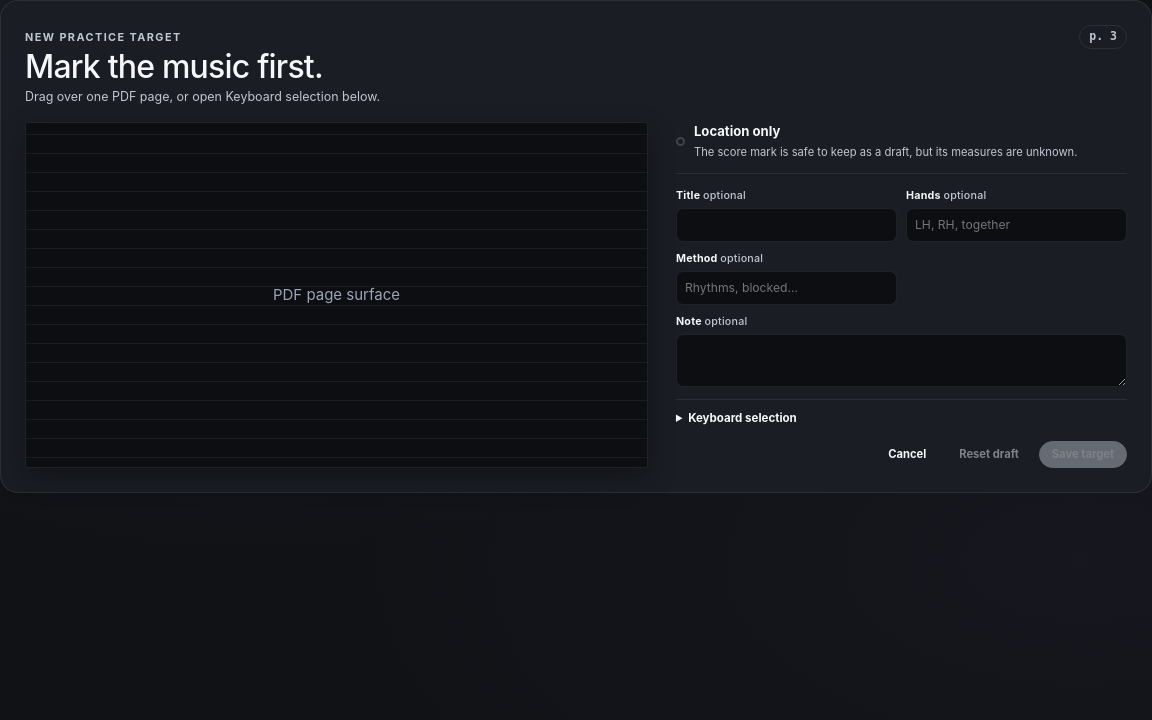
it: TargetDraftEditor › reports rejected drag geometry in an assertive live error
Press the mouse on the element with test id "atlas-target-overlay-3" at (336, 295), box [26,123,647,467]
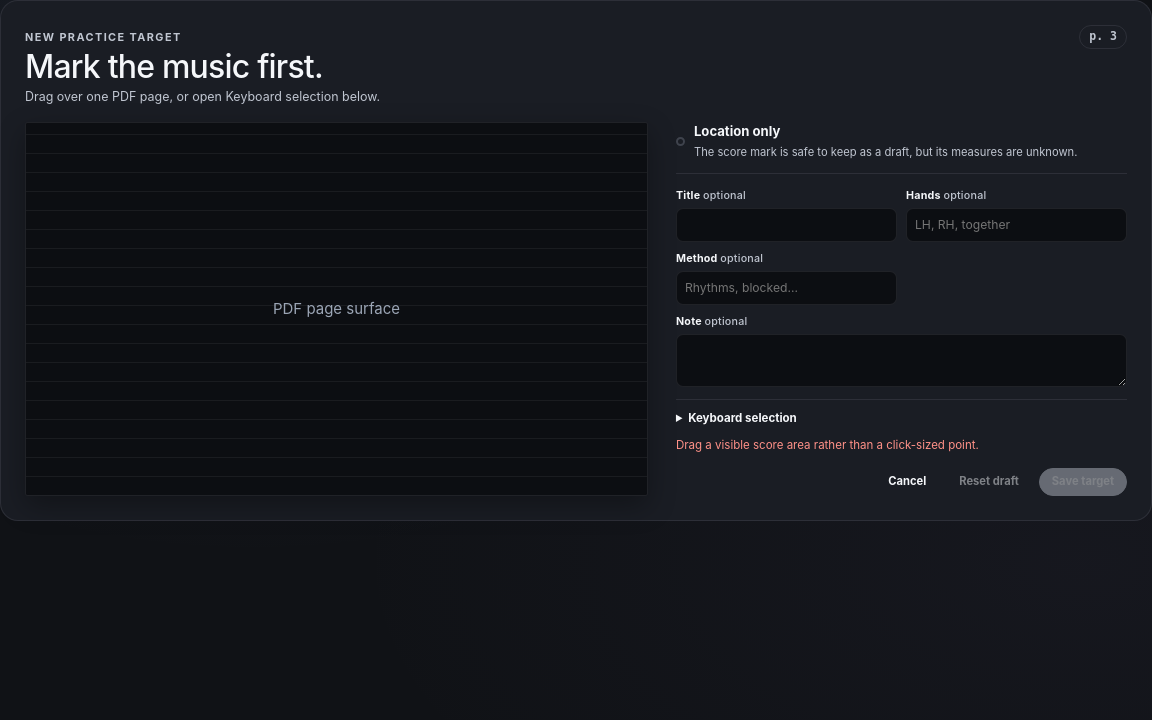
Expected: the message "Drag a visible score area rather than a click-sized point." is shown, [676,438,979,452]
